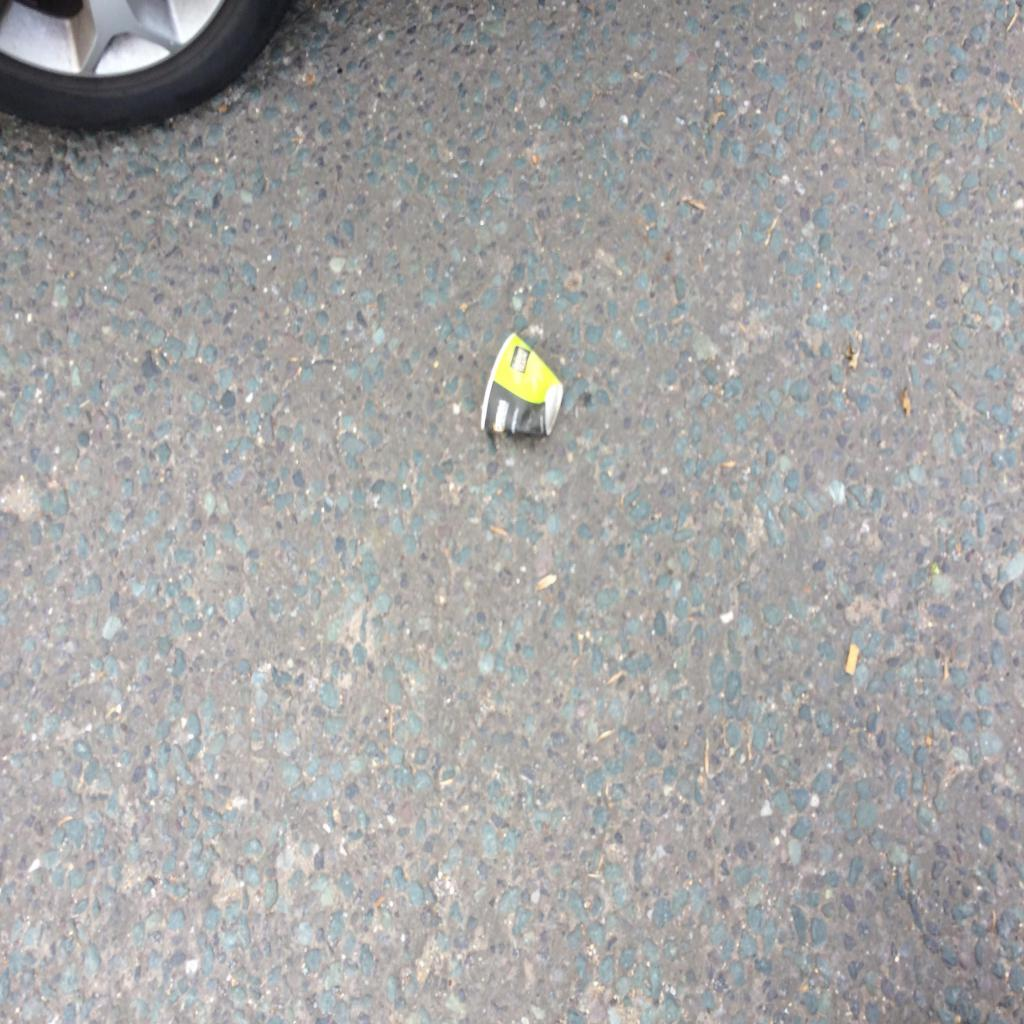Paper cup: (481, 332, 563, 436)
